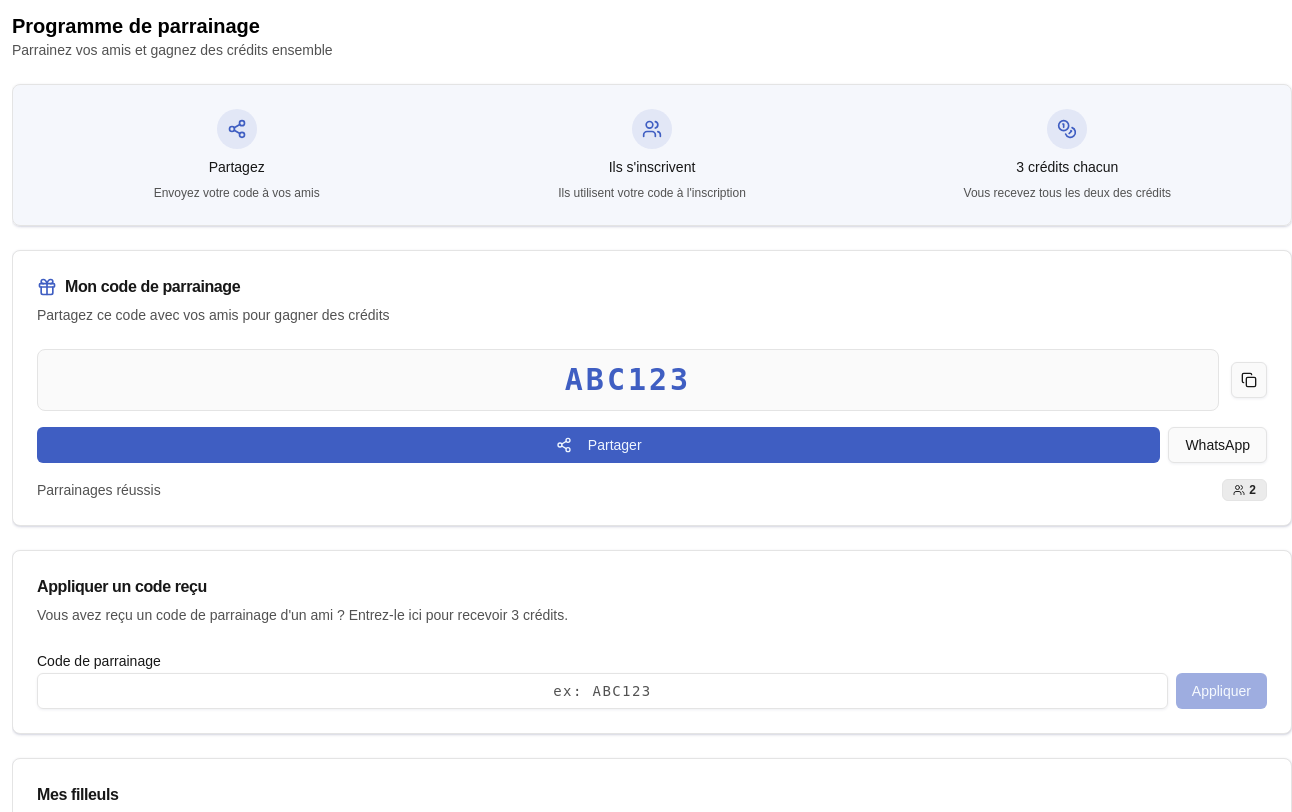
Test: ReferralPage › apply button enables when input has 4+ characters
The image size is (1292, 812).
Type "ABCD" into the field with placeholder "ex: ABC123" at (602, 691), box [37,673,1168,709]
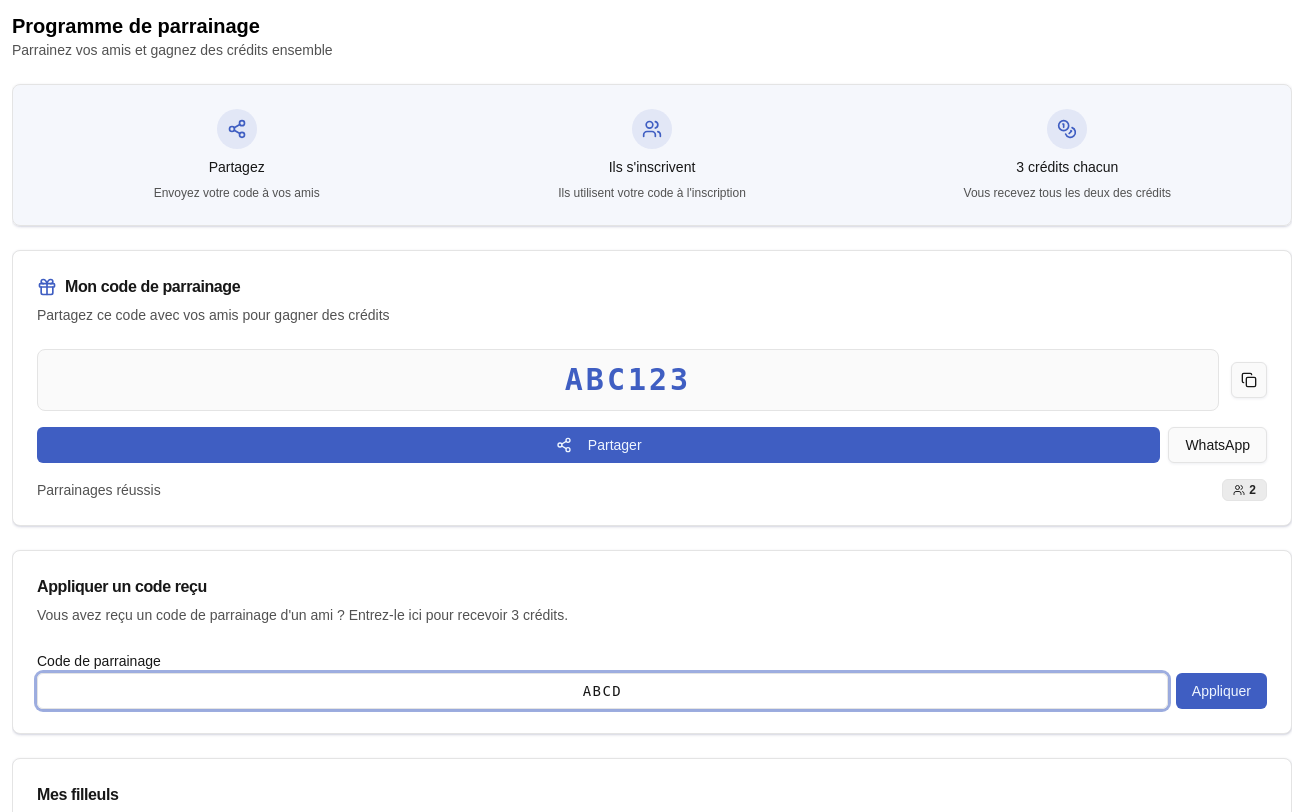
Check: the button "Appliquer" is enabled, box [1176,673,1267,709]
